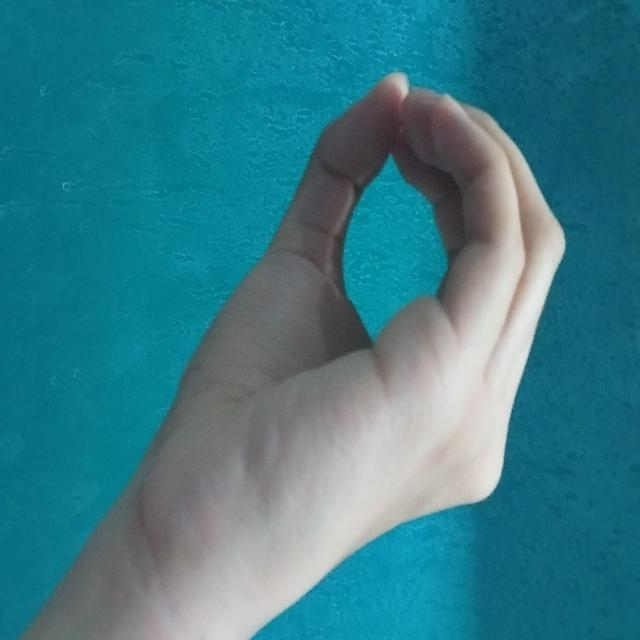O: (70, 68, 550, 503)
